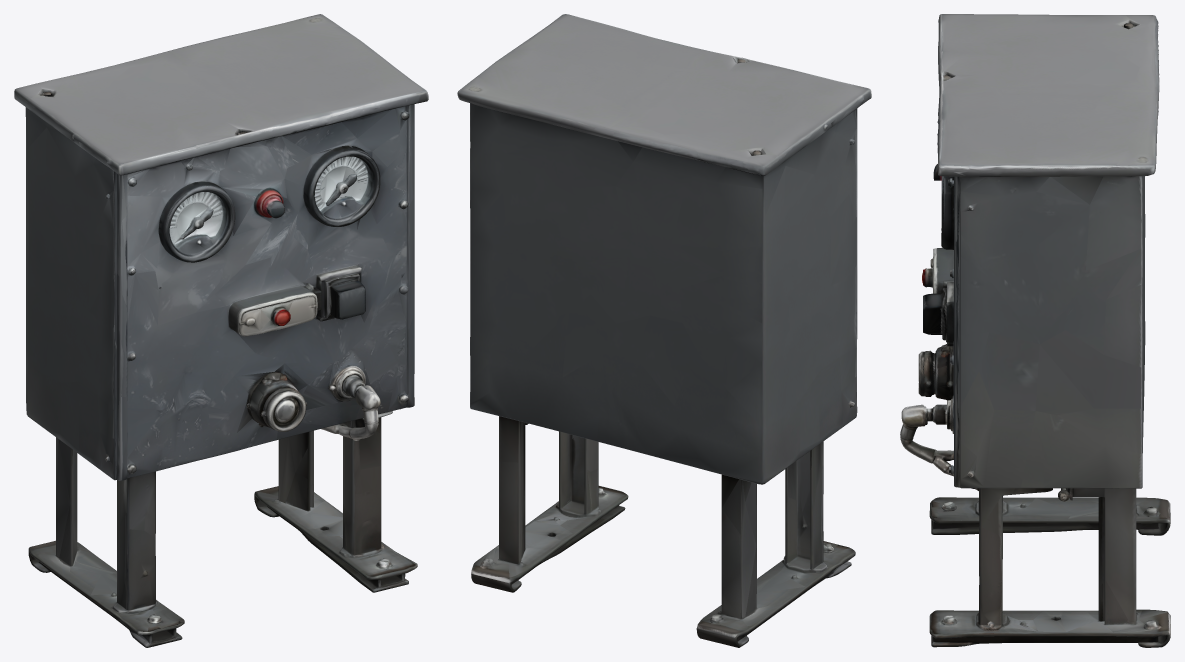
The model's file is generator_starter_panel.fbx.
3 views of the same model, side by side, from view 1: azimuth 30°, elevation 25°; view 2: azimuth 150°, elevation 25°; view 3: azimuth 270°, elevation 25° (orthographic).
Visible parts, largest first — view 1: generator_starter_panel; view 2: generator_starter_panel; view 3: generator_starter_panel.
Boxes of the visible parts, <box> form: generator_starter_panel: <box>14,14,428,647</box>; generator_starter_panel: <box>457,14,871,647</box>; generator_starter_panel: <box>900,14,1170,647</box>.
Size of the model in its own units: 0.9271 by 1.38 by 0.6858.
1 material, 1 textured.
